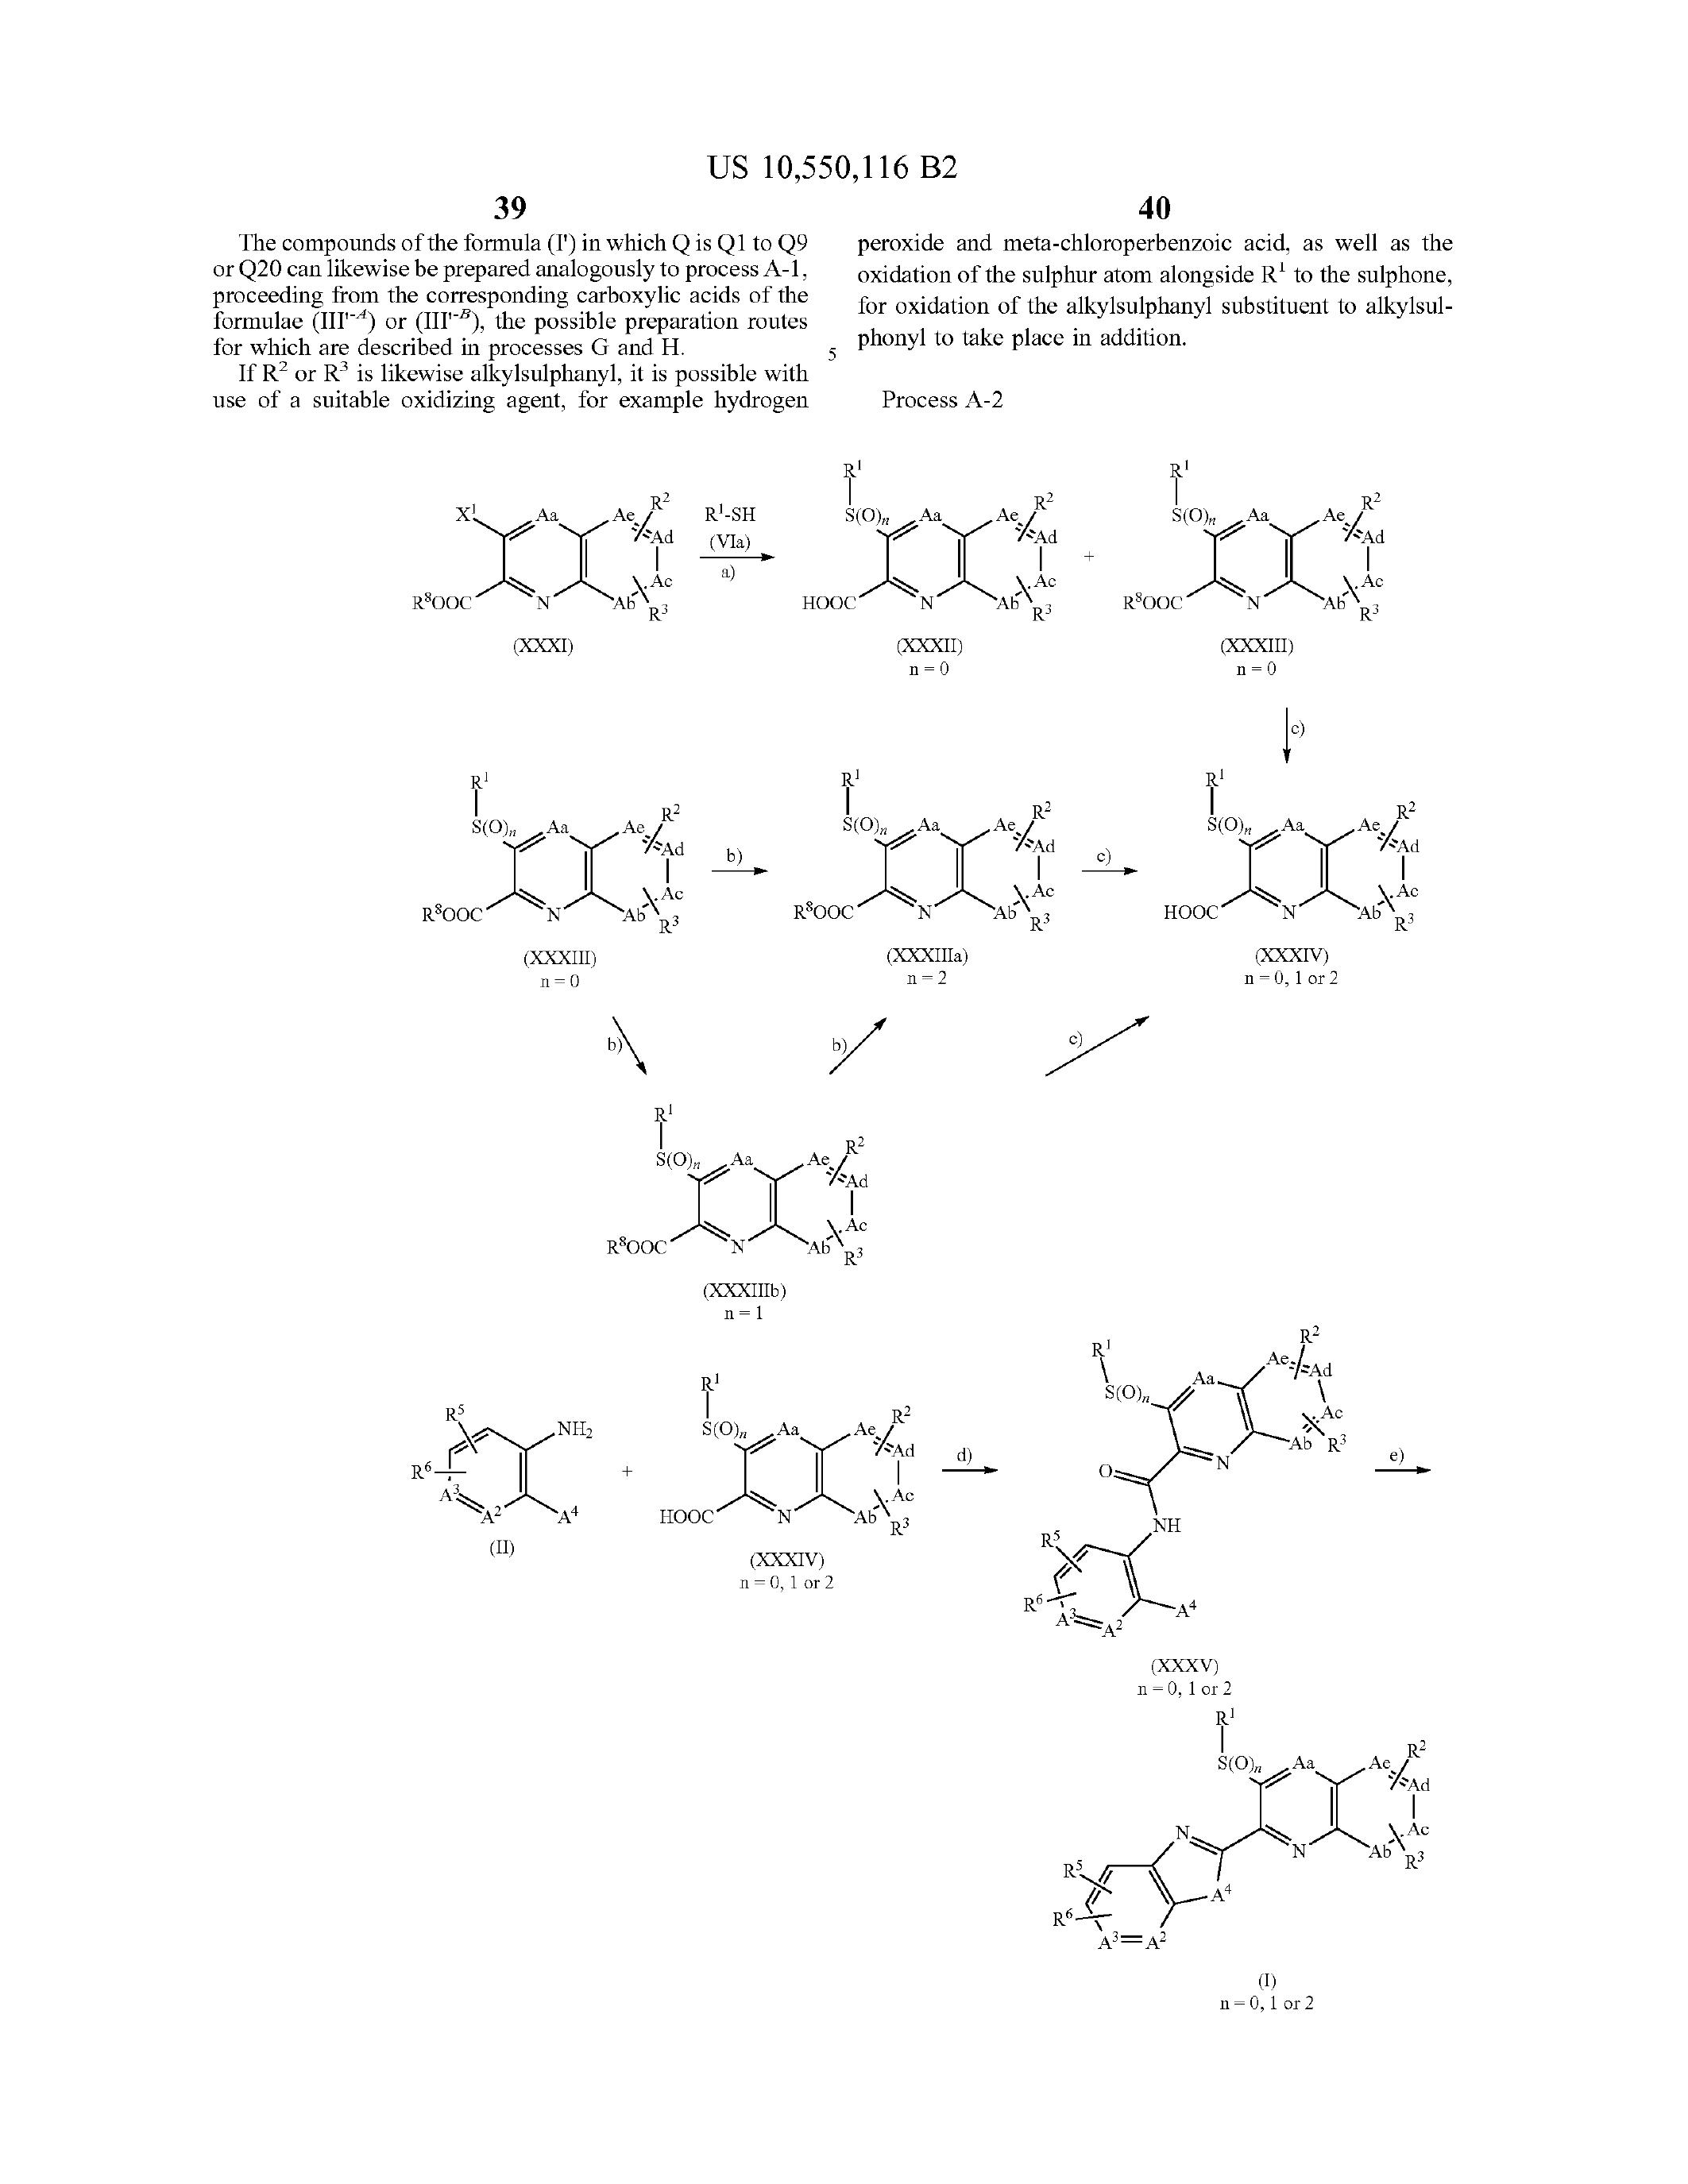reactions: (282, 477, 1470, 1730), (924, 1730, 1473, 1984)
